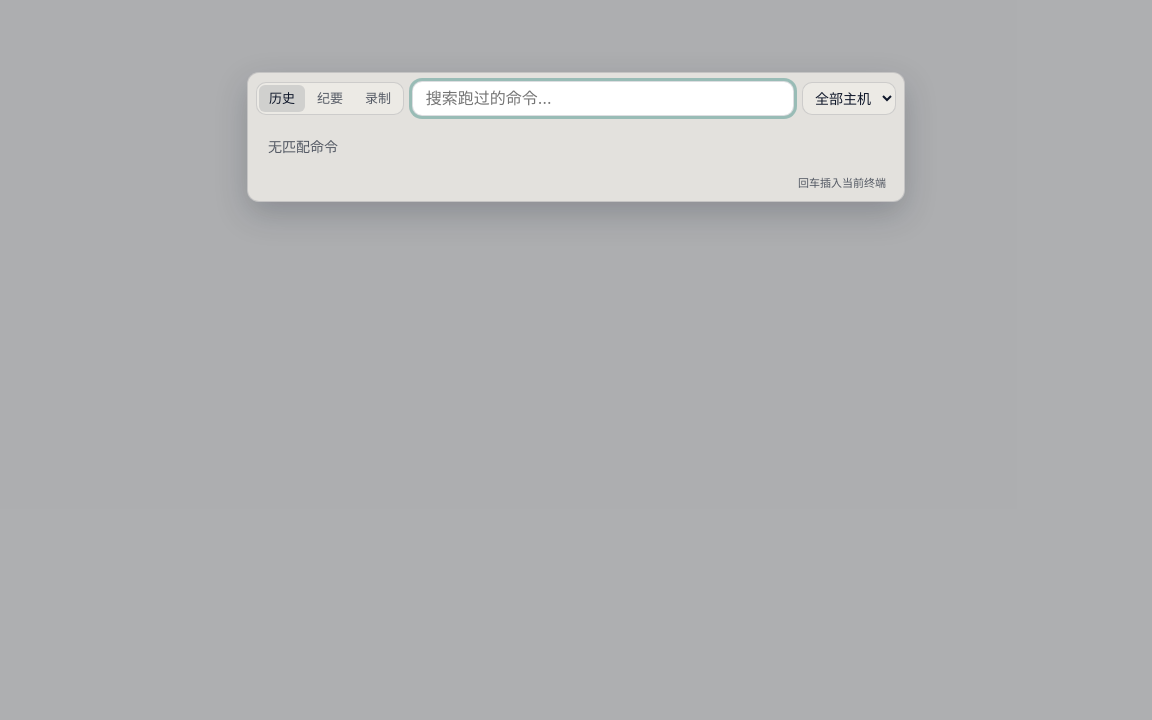
Test: HistorySearch 纪要页签（Task 7，B1） › 切「纪要」页签 → summary_list 取数并渲染（摘要全文/主机/命令数/时间）；隐藏查询框
Click the tab with test id "summary-tab".
click(330, 98)  # box left=307, top=85, right=353, bottom=112
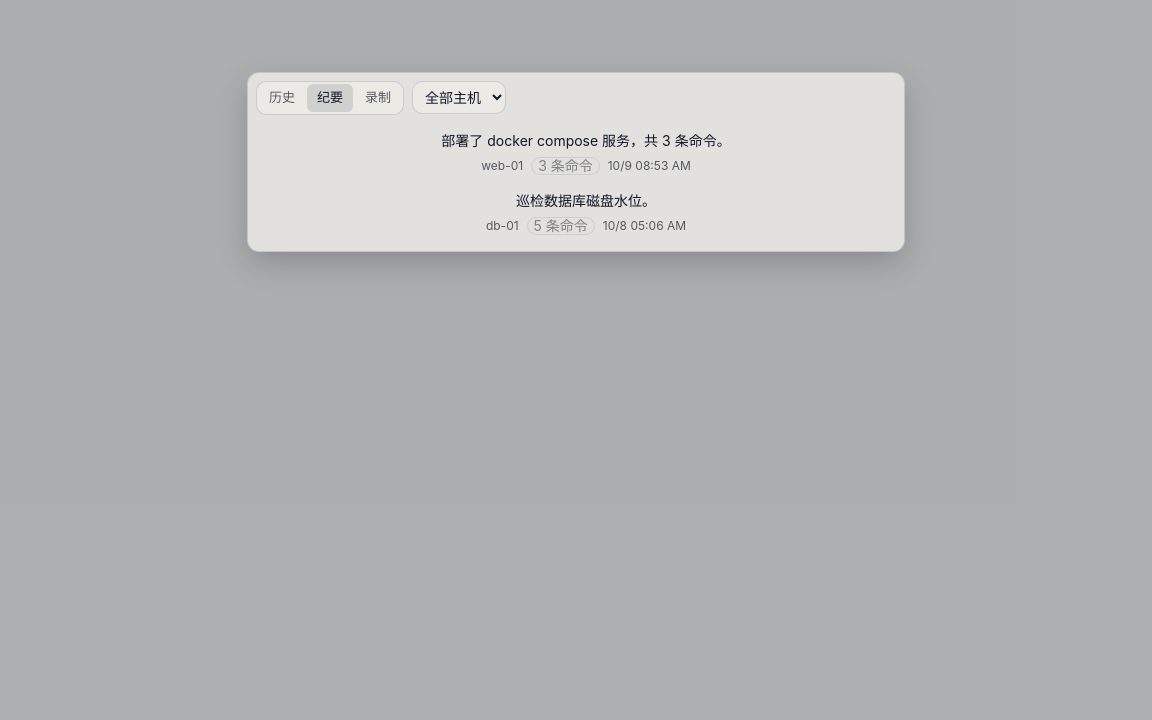
Expected: the text "部署了 docker compose 服务，共 3 条命令。" is shown, left=441, top=130, right=731, bottom=151
Expected: the elements with test id "summary-count" read "3 条命令", "5 条命令", in this order, left=531, top=157, right=600, bottom=175; left=527, top=217, right=595, bottom=235
Expected: the field with test id "history-input" is gone
